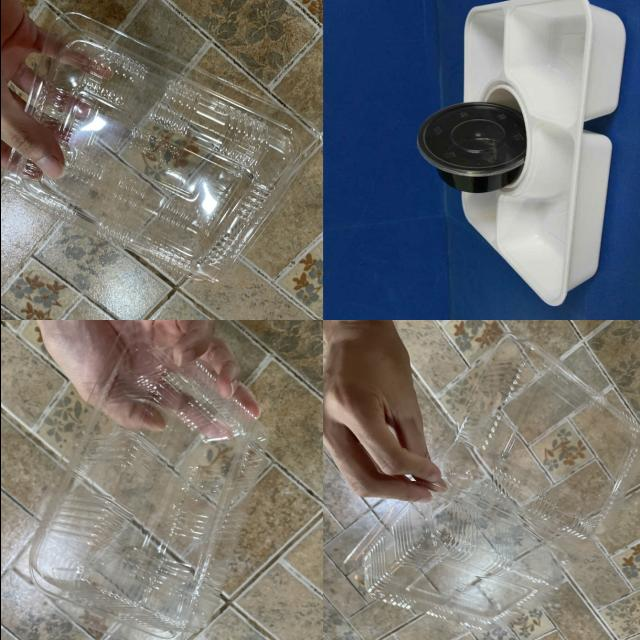plastik: (343, 336, 640, 628), (5, 13, 319, 281), (28, 324, 264, 640), (461, 0, 624, 306), (417, 102, 525, 193)
